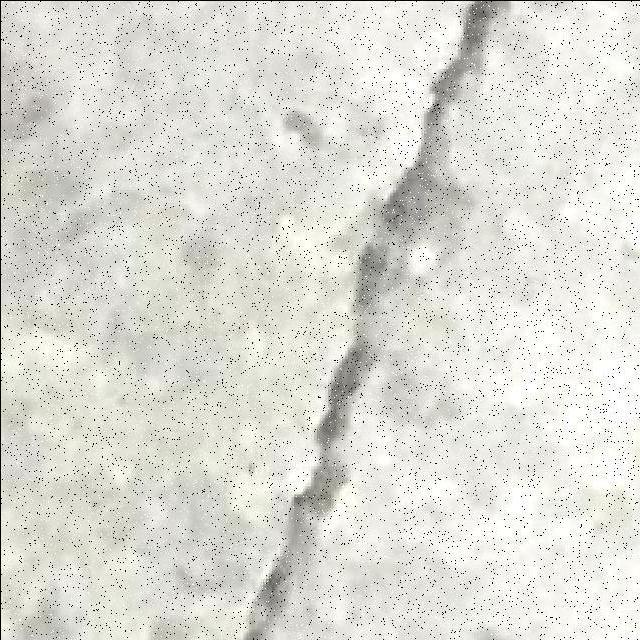Crack: (241, 1, 500, 637)
